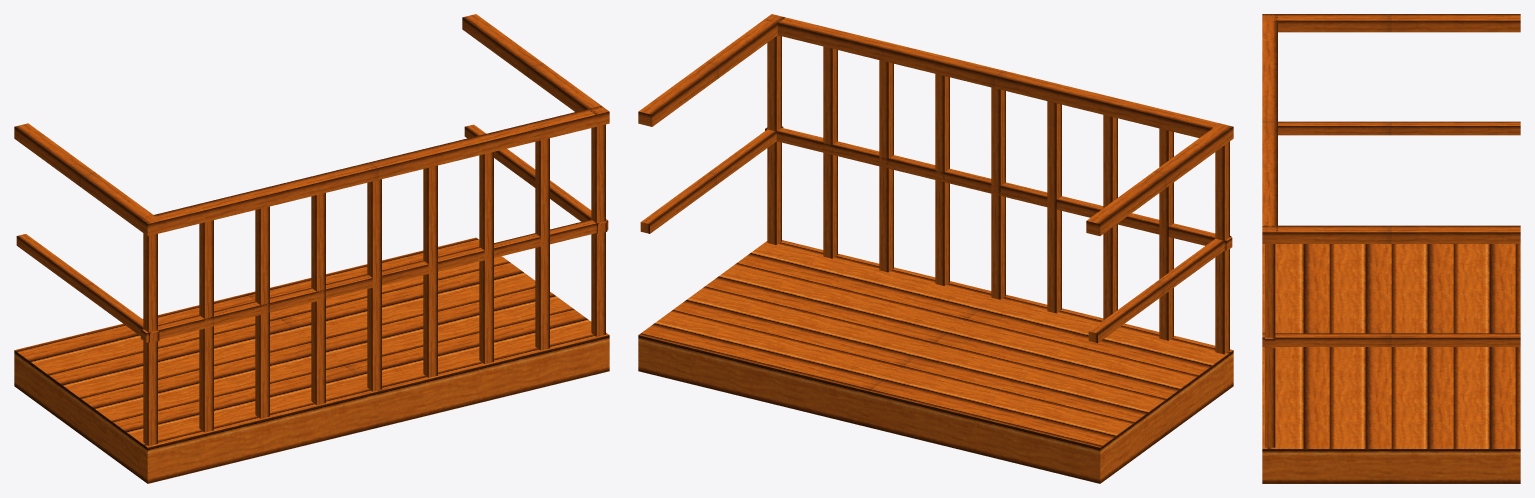
File: Balcony.fbx
3 renders of one model, left to right at view 1: azimuth 30°, elevation 25°; view 2: azimuth 150°, elevation 25°; view 3: azimuth 270°, elevation 25°, orthographic. The views are drawn at different scales.
Parts seen in each view (by area): view 1: Balcony; view 2: Balcony; view 3: Balcony.
Part boxes in pixels (box(x1,y1,x2,y2)): Balcony: box(14, 14, 609, 483); Balcony: box(638, 14, 1233, 483); Balcony: box(1262, 14, 1520, 483).
Size of the model in its own units: 2 by 1.07 by 1.
